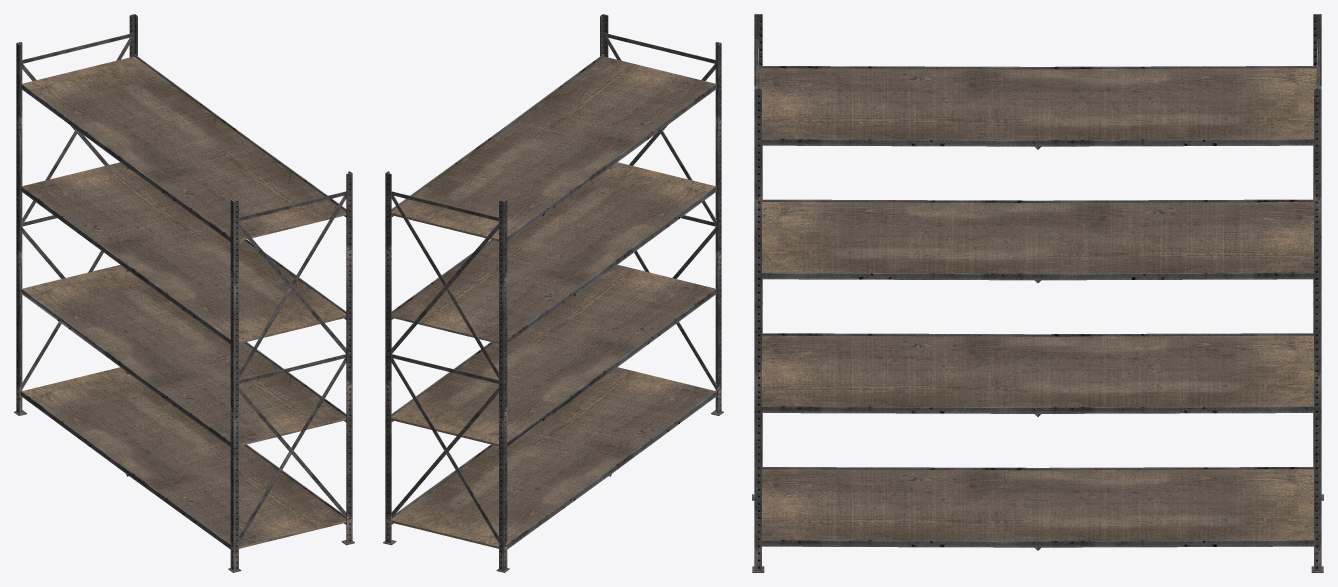
File: modal.dae
The picture shows the model from 3 angles, left to right: view 1: azimuth 30°, elevation 25°; view 2: azimuth 150°, elevation 25°; view 3: azimuth 270°, elevation 25°; orthographic projection. The views are drawn at different scales.
Parts seen in each view (by area): view 1: instance_9.001, instance_9.011, instance_9.019, instance_9.021, instance_9, instance_9.008, instance_9.009, instance_9.010, instance_9.016, instance_9.012; view 2: instance_9.001, instance_9.011, instance_9.019, instance_9.021, instance_9, instance_9.004, instance_9.012, instance_9.017, instance_9.013, instance_9.009; view 3: instance_9.001, instance_9.011, instance_9.019, instance_9.021, instance_9.
Boxes of the visible parts, x1,y1,x2,y2 form: instance_9.001: [22, 56, 346, 241]; instance_9.011: [22, 367, 346, 548]; instance_9.019: [22, 162, 346, 343]; instance_9.021: [22, 264, 346, 446]; instance_9: [16, 14, 352, 570]; instance_9.008: [239, 358, 346, 542]; instance_9.009: [239, 195, 346, 378]; instance_9.010: [239, 387, 346, 517]; instance_9.016: [239, 223, 346, 353]; instance_9.012: [21, 34, 134, 225]; instance_9.001: [391, 56, 715, 241]; instance_9.011: [391, 367, 715, 548]; instance_9.019: [391, 162, 715, 343]; instance_9.021: [391, 264, 715, 446]; instance_9: [385, 14, 721, 570]; instance_9.004: [391, 358, 498, 542]; instance_9.012: [391, 195, 498, 378]; instance_9.017: [391, 387, 498, 517]; instance_9.013: [391, 223, 498, 353]; instance_9.009: [603, 34, 716, 225]; instance_9.001: [759, 68, 1316, 139]; instance_9.011: [762, 469, 1313, 540]; instance_9.019: [762, 202, 1313, 273]; instance_9.021: [762, 335, 1313, 407]; instance_9: [754, 14, 1321, 570].
Bounding box in the file's own units: 1.68 × 5.25 × 4.89.
1 material, 1 textured.
